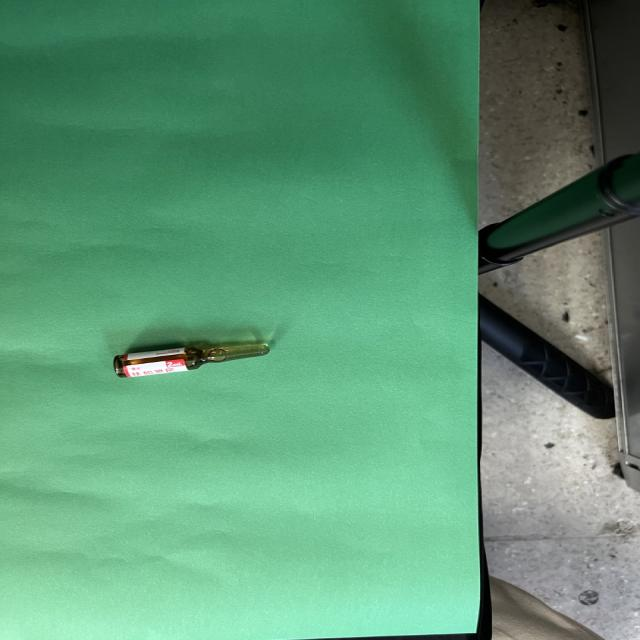Ampoules: (113, 344, 270, 378)
